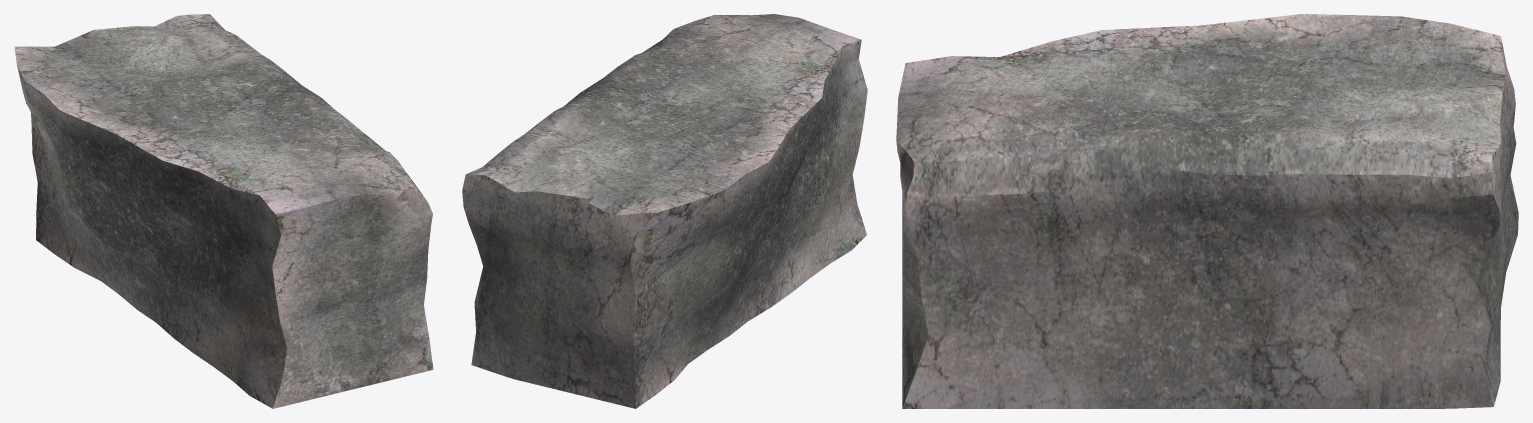
Rendered from BrokenConcretePieceDeformed1.fbx.
3 views of the same model, side by side, from view 1: azimuth 30°, elevation 25°; view 2: azimuth 150°, elevation 25°; view 3: azimuth 270°, elevation 25° (orthographic). The views are drawn at different scales.
Visible parts, largest first — view 1: ConcreteBlockDeformedPiece1; view 2: ConcreteBlockDeformedPiece1; view 3: ConcreteBlockDeformedPiece1.
Part boxes in pixels (x1,y1,x2,y2): ConcreteBlockDeformedPiece1: (14,14,433,408); ConcreteBlockDeformedPiece1: (462,14,867,408); ConcreteBlockDeformedPiece1: (896,14,1518,408).
Size of what is drawn, in the model's own units: 239 by 205 by 437.
